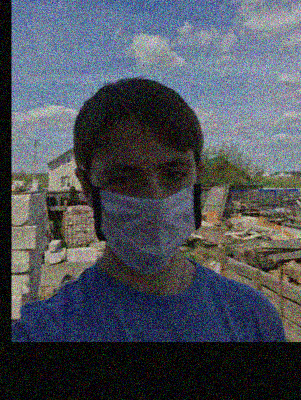with_mask: (89, 141, 202, 275)
